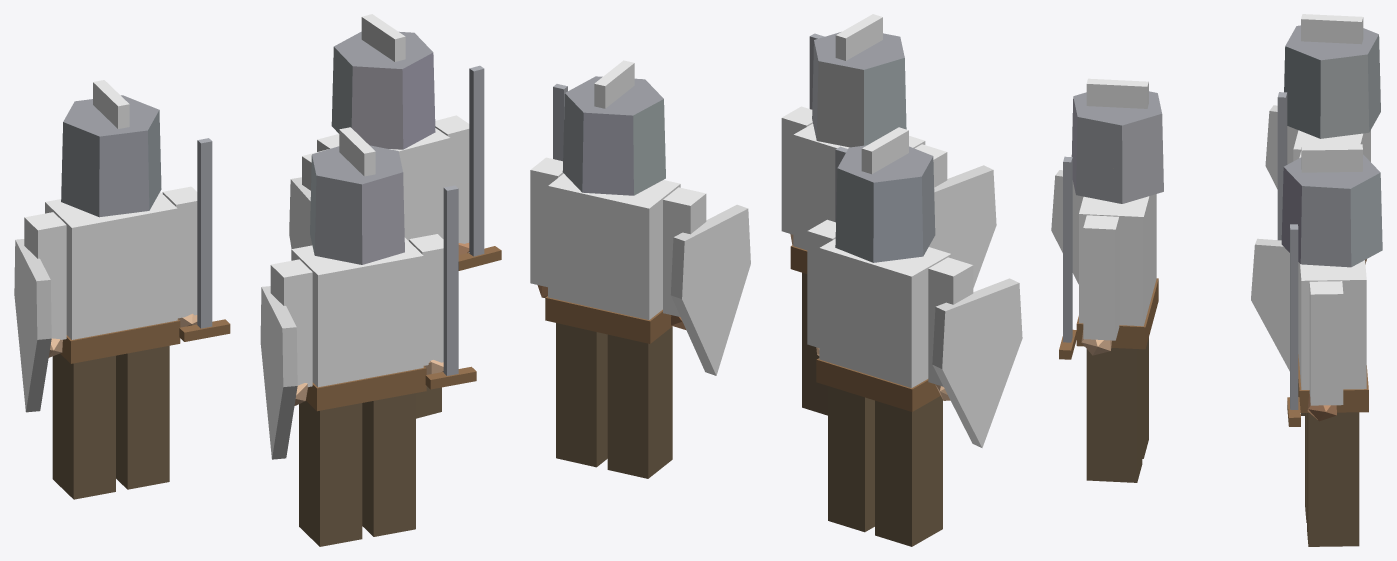
Rendered from Longswordsman.glb.
3 renders of one model, left to right at view 1: azimuth 30°, elevation 25°; view 2: azimuth 150°, elevation 25°; view 3: azimuth 270°, elevation 25°, orthographic. The views are drawn at different scales.
Parts seen in each view (by area): view 1: Units_Longswordsman; view 2: Units_Longswordsman; view 3: Units_Longswordsman.
Part boxes in pixels (left/top/right/bottom): Units_Longswordsman: left=14, top=14, right=501, bottom=546; Units_Longswordsman: left=530, top=14, right=1022, bottom=546; Units_Longswordsman: left=1051, top=14, right=1382, bottom=546.
Size of the model in its own units: 0.2611 by 0.204 by 0.1623.
